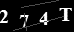2: (1, 9, 9, 24)
4: (38, 11, 50, 26)
7: (19, 14, 29, 28)
T: (58, 7, 73, 22)
